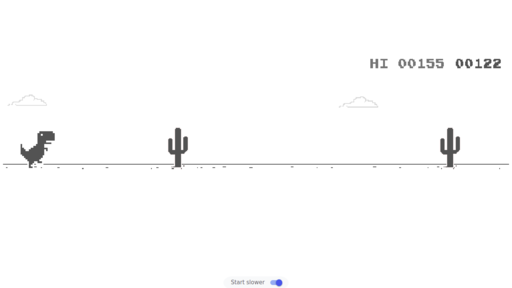dino: (21, 130, 56, 168)
tree: (167, 128, 189, 169), (440, 127, 460, 169)
